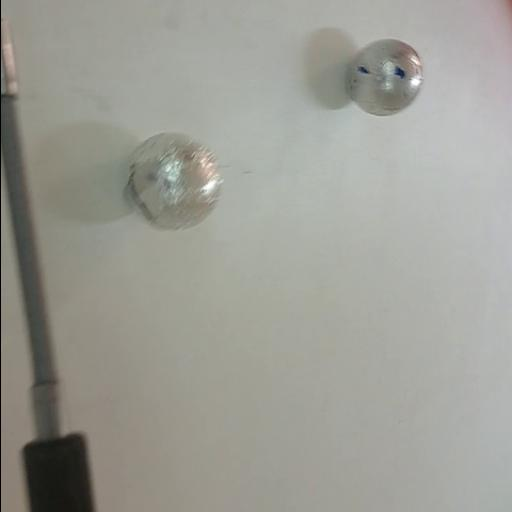alive: (122, 131, 224, 233), (346, 37, 424, 117)
